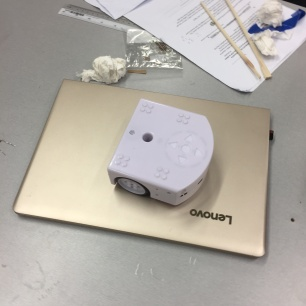thymio: (106, 95, 217, 214)
